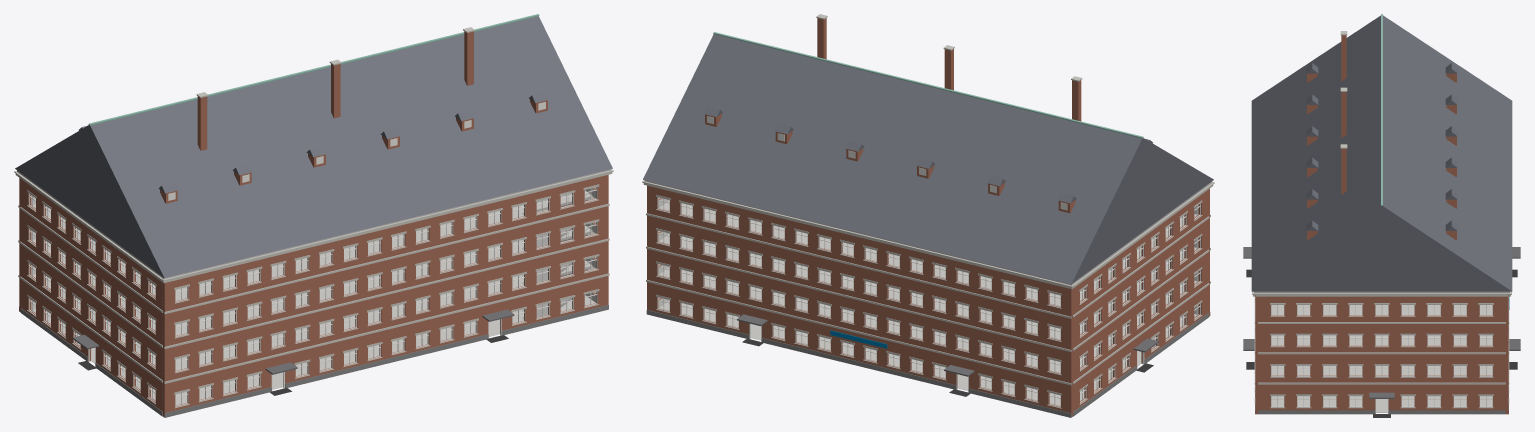
Rendered from SM_Bygg_Bergbygget.fbx.
3 views of the same model, side by side, from view 1: azimuth 30°, elevation 25°; view 2: azimuth 150°, elevation 25°; view 3: azimuth 270°, elevation 25° (orthographic). The views are drawn at different scales.
Visible parts, largest first — view 1: SM_Bygg_Bergbygget; view 2: SM_Bygg_Bergbygget; view 3: SM_Bygg_Bergbygget.
Part boxes in pixels (<box>): SM_Bygg_Bergbygget: <box>14,14,613,417</box>; SM_Bygg_Bergbygget: <box>642,14,1214,417</box>; SM_Bygg_Bergbygget: <box>1243,14,1520,417</box>.
Size of the model in its own units: 37.2 by 63.2 by 34.41.
